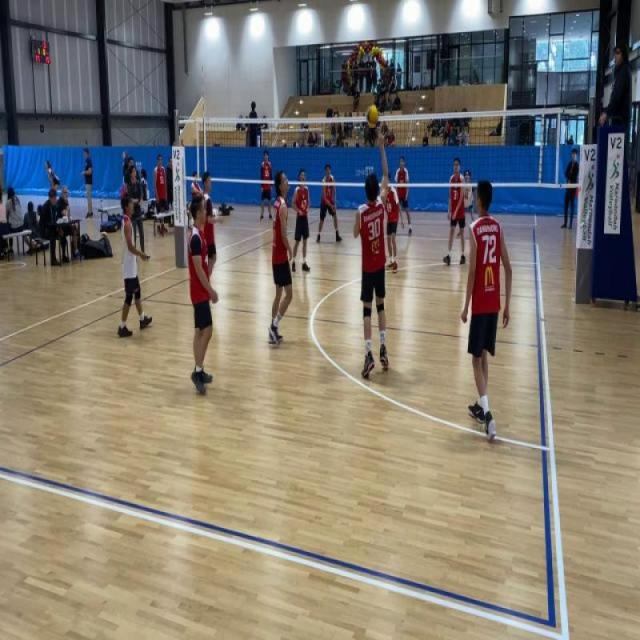volleyball: (365, 104, 380, 130), (100, 230, 108, 238)
